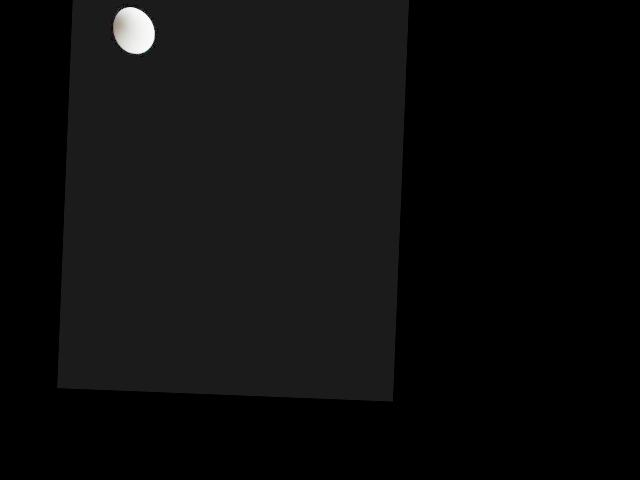egg: (112, 6, 155, 54)
